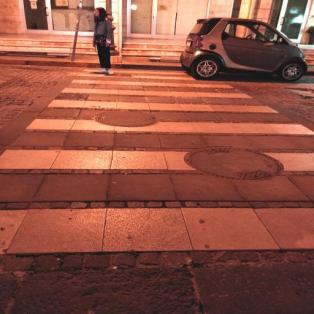Paso de Cebra: (0, 115, 314, 179), (59, 76, 260, 102)
